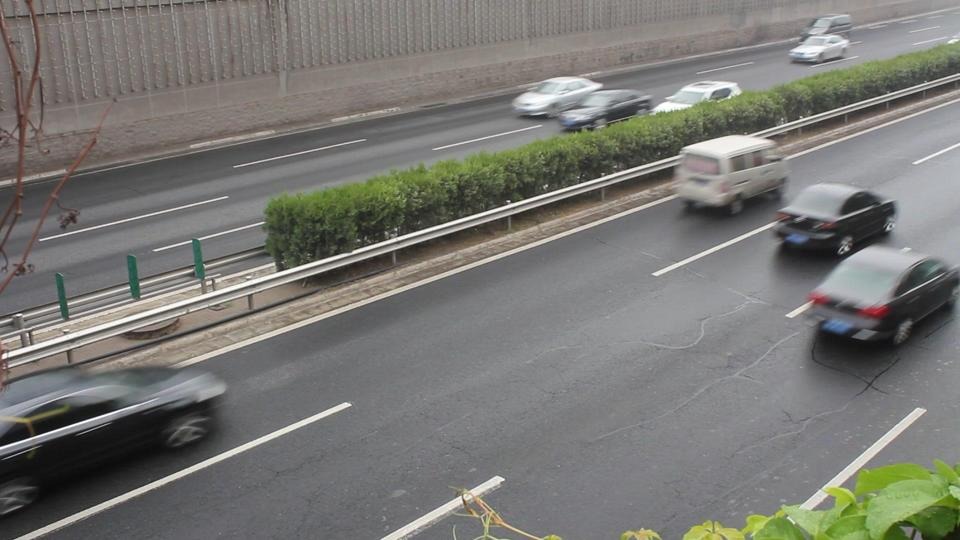car: (0, 364, 229, 516), (803, 245, 960, 348), (672, 134, 793, 217), (771, 182, 899, 257), (557, 89, 657, 132), (510, 76, 604, 118), (660, 79, 744, 111), (788, 34, 852, 65), (798, 14, 855, 42)
